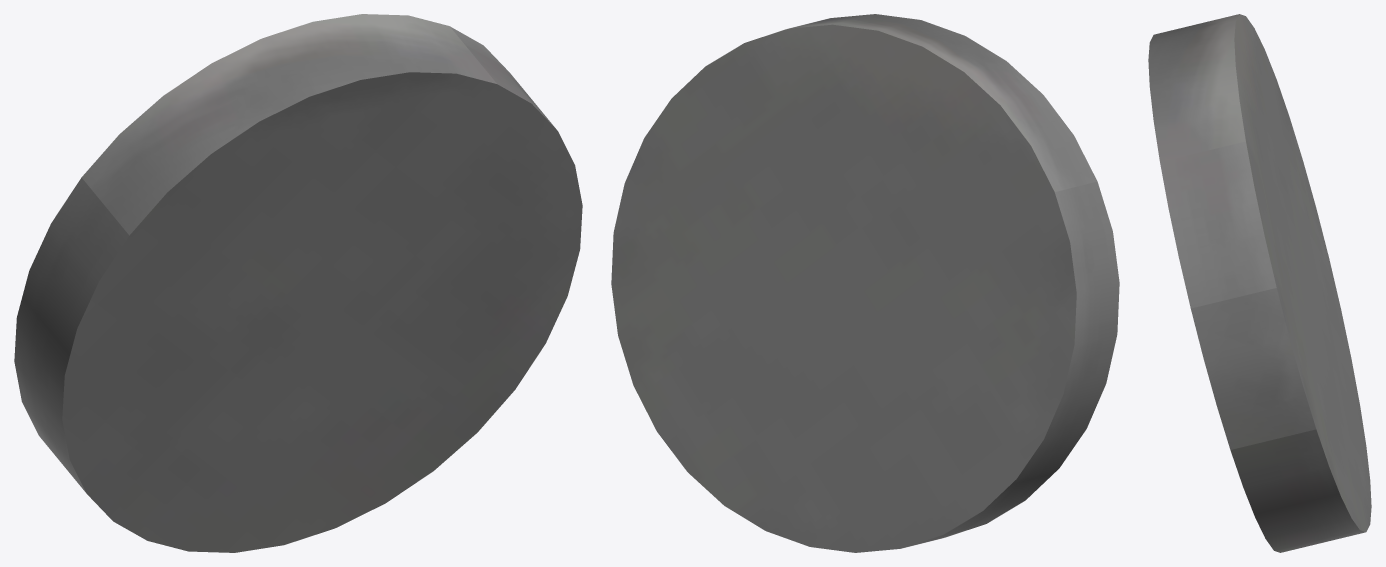
Rendered from cabinet__joystick_collar_1.glb.
3 renders of one model, left to right at view 1: azimuth 30°, elevation 25°; view 2: azimuth 150°, elevation 25°; view 3: azimuth 270°, elevation 25°, orthographic. The views are drawn at different scales.
Parts seen in each view (by area): view 1: geometry_0; view 2: geometry_0; view 3: geometry_0.
Boxes of the visible parts, x1,y1,x2,y2 form: geometry_0: (14, 14, 582, 552); geometry_0: (611, 14, 1119, 552); geometry_0: (1148, 14, 1371, 552).
Bounding box in the file's own units: 0.036 × 0.0363 × 0.0151.
Materials: 1 (1 with a texture image).
